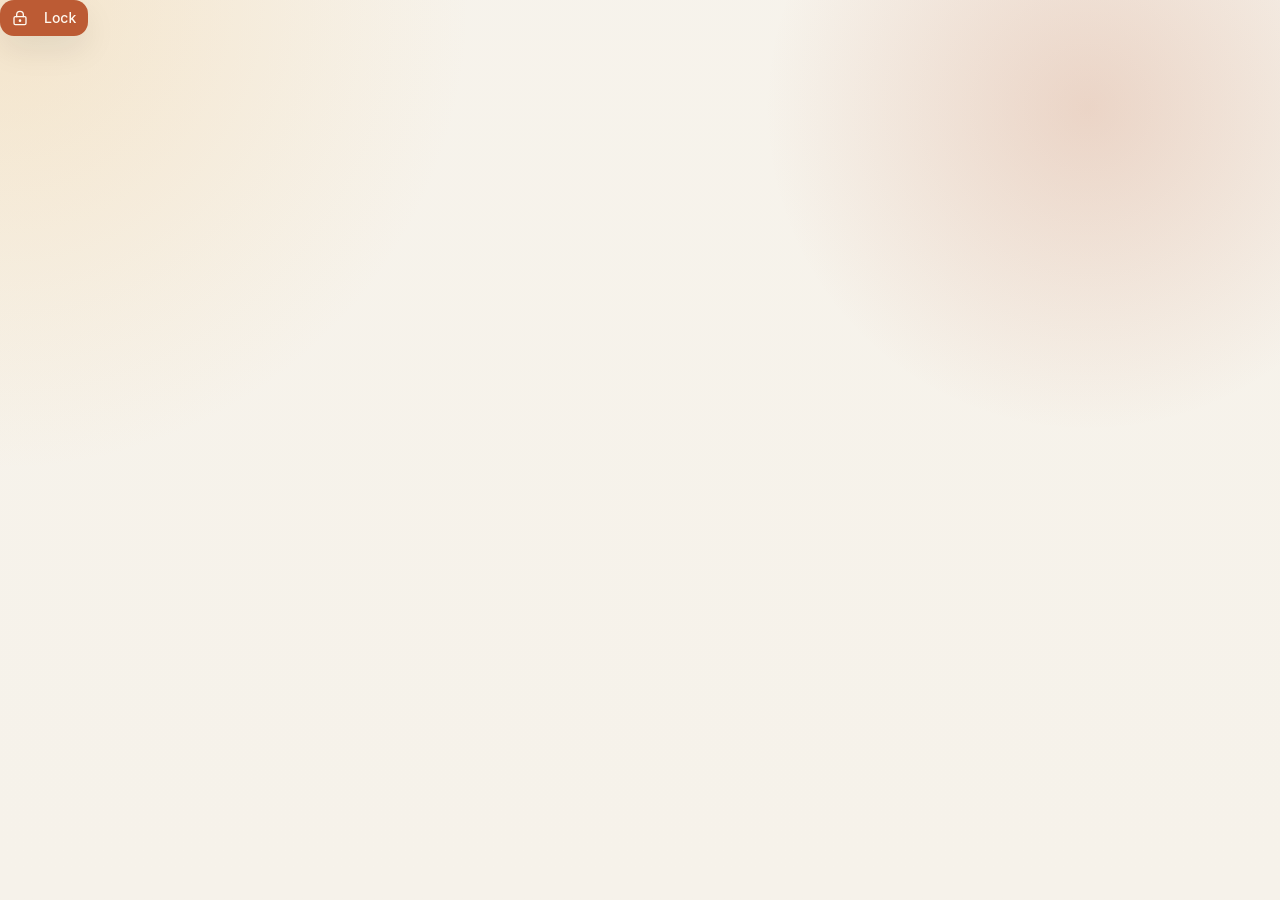
Test: MonthlyCycleLockButton › opens the unresolved-onchain override modal and retries with a reason
Later steps or results of the test are not shown.
Click the button "Lock" at (44, 18), box [0,0,88,36]
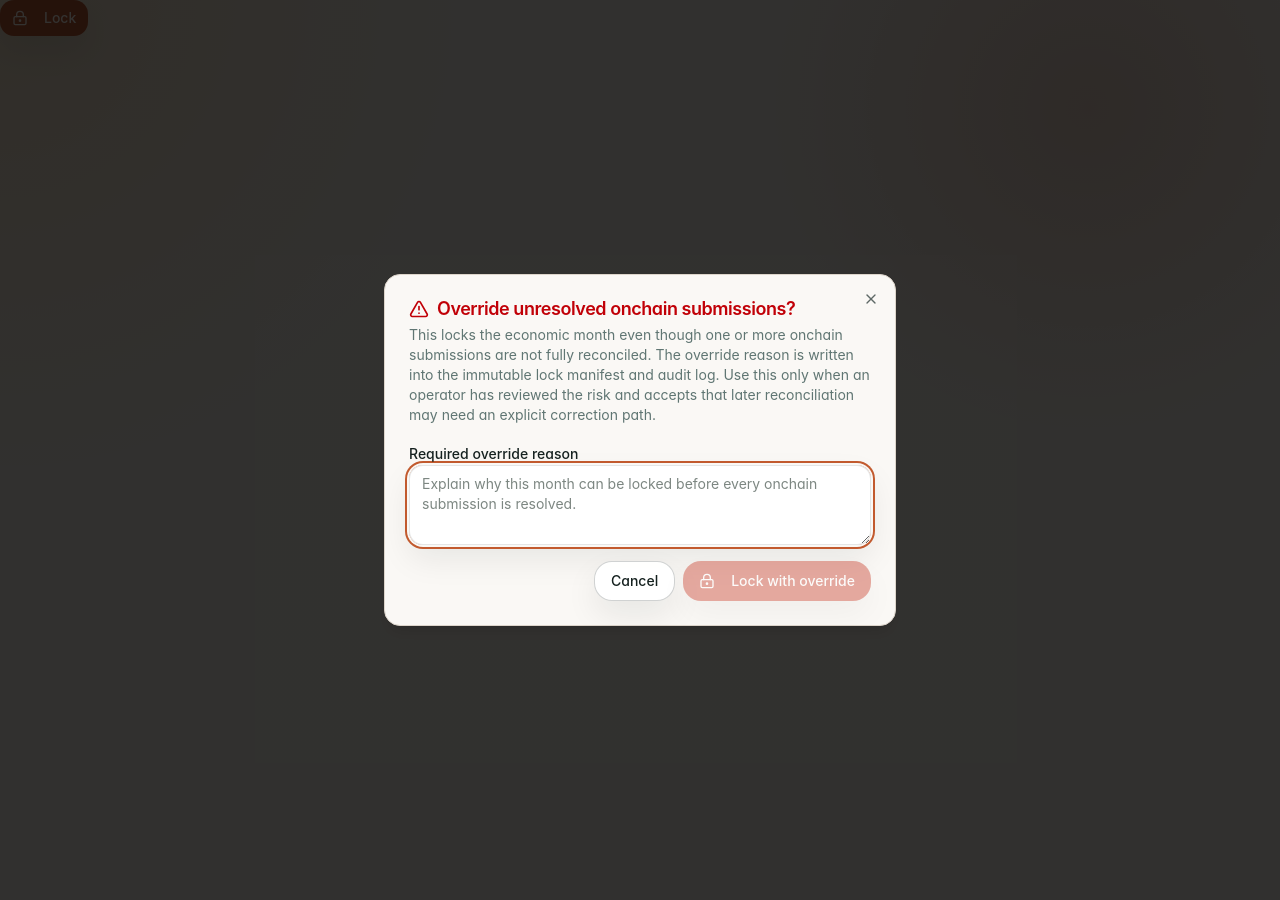
Check: the heading "Override unresolved onchain submissions?" is shown, box [409,298,795,319]
Check: the button "Lock with override" is disabled, box [683,561,871,601]
